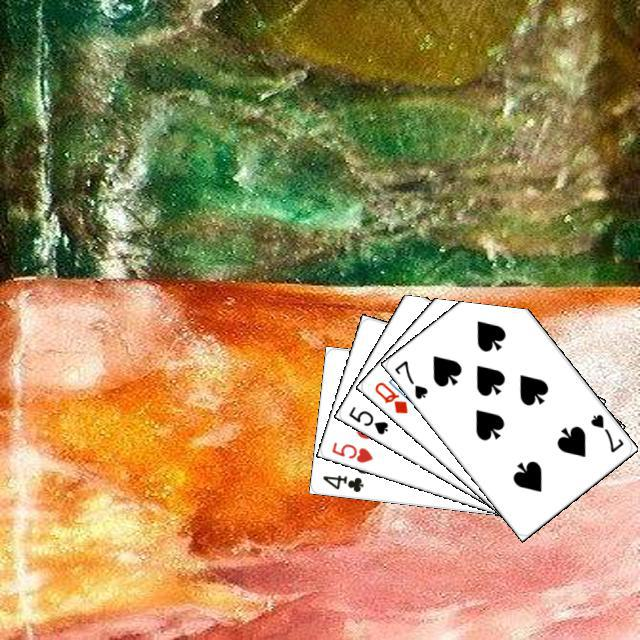4c: (318, 470, 365, 494)
5h: (327, 437, 375, 464)
5s: (343, 401, 390, 436)
7s: (390, 355, 430, 401), (585, 409, 625, 454)
Qd: (369, 377, 409, 416)
